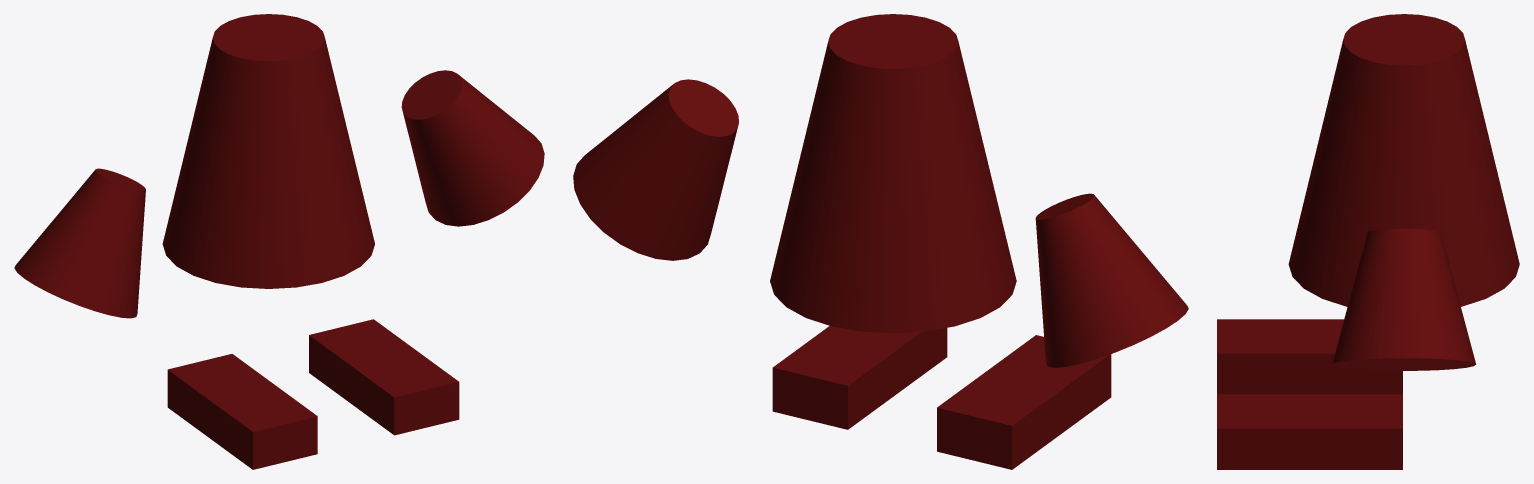
The model's file is ms_player_red.FBX.
3 renders of one model, left to right at view 1: azimuth 30°, elevation 25°; view 2: azimuth 150°, elevation 25°; view 3: azimuth 270°, elevation 25°, orthographic. The views are drawn at different scales.
Parts seen in each view (by area): view 1: Cone020, Cone019, Cone021, Box020, Box019; view 2: Cone020, Cone019, Cone021, Box020, Box019; view 3: Cone020, Cone019, Box019, Box020.
Part boxes in pixels (left/top/right/bottom): Cone020: left=162, top=14, right=374, bottom=288; Cone019: left=401, top=70, right=544, bottom=226; Cone021: left=14, top=168, right=145, bottom=318; Box020: left=167, top=354, right=317, bottom=469; Box019: left=309, top=319, right=459, bottom=435; Cone020: left=770, top=14, right=1016, bottom=333; Cone019: left=573, top=79, right=738, bottom=260; Cone021: left=1035, top=193, right=1188, bottom=367; Box020: left=937, top=335, right=1111, bottom=469; Box019: left=772, top=326, right=947, bottom=429; Cone020: left=1288, top=14, right=1519, bottom=306; Cone019: left=1332, top=229, right=1475, bottom=370; Box019: left=1217, top=394, right=1402, bottom=469; Box020: left=1217, top=319, right=1402, bottom=394.
Size of the model in its own units: 70.91 by 45.7 by 33.45.
